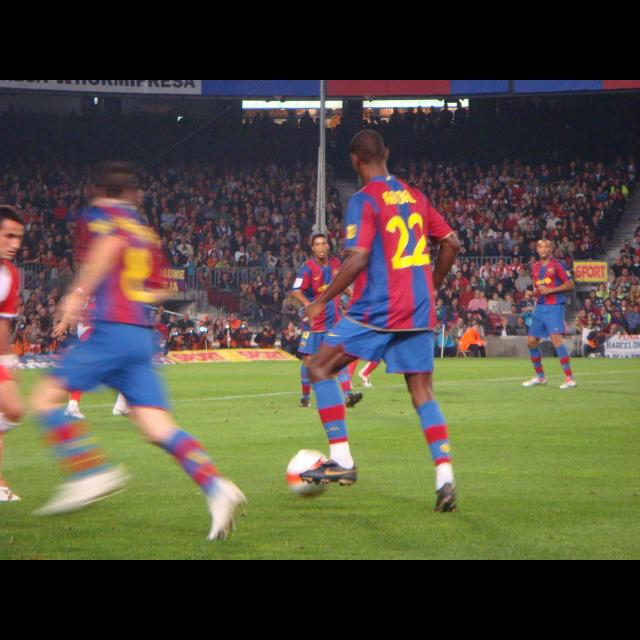Football: (284, 448, 330, 494)
